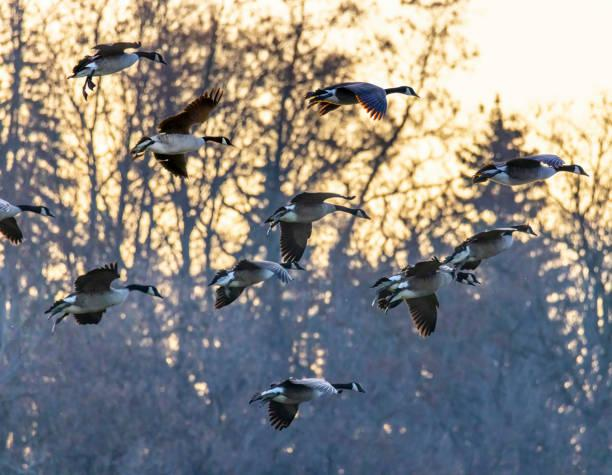Canadian-Goose: (130, 90, 233, 181), (372, 260, 481, 335), (48, 266, 163, 330), (250, 367, 364, 430), (265, 190, 369, 254), (70, 40, 168, 101), (470, 150, 587, 195), (212, 258, 309, 310), (452, 220, 539, 277), (302, 78, 417, 118), (1, 198, 58, 246)
